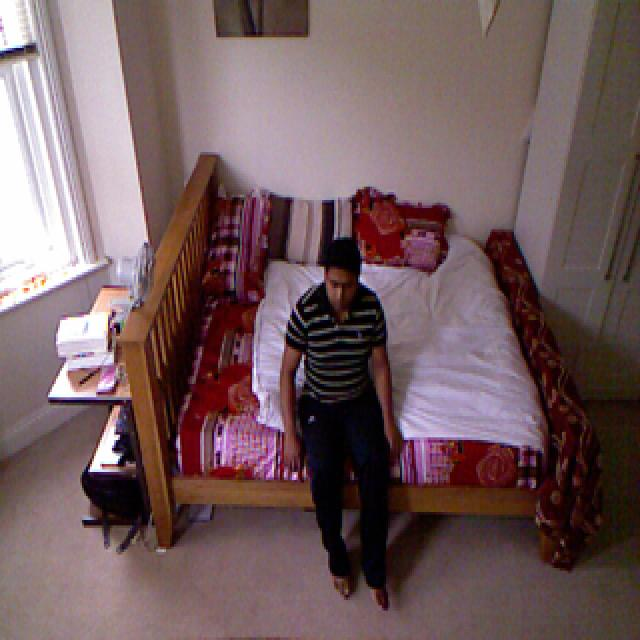sitting: (282, 240, 398, 611)
